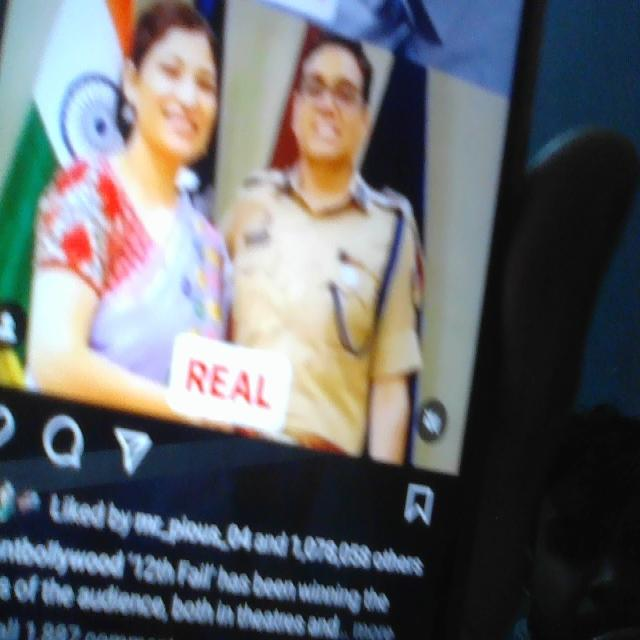fake: (114, 0, 235, 228)
